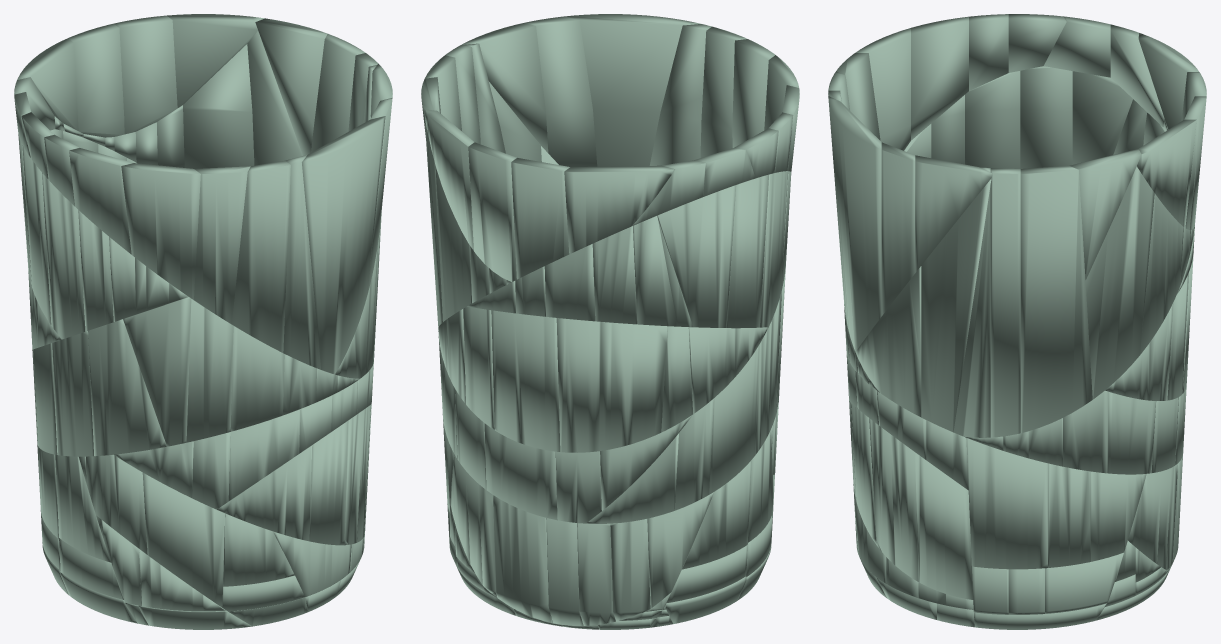
File: collision-hulls.glb
3 renders of one model, left to right at view 1: azimuth 30°, elevation 25°; view 2: azimuth 150°, elevation 25°; view 3: azimuth 270°, elevation 25°, orthographic.
Visible parts, largest first — view 1: fragment-017-hull-00, fragment-002-hull-01, fragment-006-hull-01, fragment-014-hull-00, fragment-023-hull-04, fragment-013-hull-01, fragment-006-hull-00, fragment-015-hull-08, fragment-012-hull-01, fragment-015-hull-07, fragment-007-hull-00, fragment-012-hull-02 (+48 smaller); view 2: fragment-005-hull-05, fragment-017-hull-00, fragment-005-hull-02, fragment-019-hull-04, fragment-017-hull-01, fragment-012-hull-03, fragment-012-hull-02, fragment-011-hull-01, fragment-002-hull-00, fragment-012-hull-01, fragment-017-hull-02, fragment-019-hull-03 (+46 smaller); view 3: fragment-003-hull-02, fragment-016-hull-01, fragment-013-hull-00, fragment-017-hull-00, fragment-000-hull-00, fragment-003-hull-01, fragment-020-hull-01, fragment-020-hull-00, fragment-016-hull-00, fragment-006-hull-02, fragment-019-hull-03, fragment-017-hull-01 (+48 smaller).
Part boxes in pixels (x1=…): fragment-017-hull-00: x1=302, y1=116, x2=385, y2=374; fragment-002-hull-01: x1=232, y1=160, x2=290, y2=352; fragment-006-hull-01: x1=121, y1=163, x2=200, y2=299; fragment-014-hull-00: x1=88, y1=319, x2=166, y2=456; fragment-023-hull-04: x1=142, y1=472, x2=225, y2=607; fragment-013-hull-01: x1=183, y1=44, x2=254, y2=168; fragment-006-hull-00: x1=194, y1=166, x2=250, y2=324; fragment-015-hull-08: x1=123, y1=297, x2=191, y2=446; fragment-012-hull-01: x1=114, y1=15, x2=177, y2=134; fragment-015-hull-07: x1=186, y1=299, x2=233, y2=442; fragment-007-hull-00: x1=255, y1=18, x2=327, y2=155; fragment-012-hull-02: x1=68, y1=23, x2=124, y2=137; fragment-005-hull-05: x1=556, y1=318, x2=667, y2=452; fragment-017-hull-00: x1=565, y1=14, x2=700, y2=166; fragment-005-hull-02: x1=491, y1=310, x2=560, y2=451; fragment-019-hull-04: x1=657, y1=185, x2=736, y2=327; fragment-017-hull-01: x1=524, y1=16, x2=597, y2=166; fragment-012-hull-03: x1=564, y1=165, x2=674, y2=254; fragment-012-hull-02: x1=511, y1=158, x2=569, y2=279; fragment-011-hull-01: x1=493, y1=495, x2=552, y2=623; fragment-002-hull-00: x1=649, y1=24, x2=711, y2=165; fragment-012-hull-01: x1=468, y1=142, x2=516, y2=281; fragment-017-hull-02: x1=461, y1=23, x2=548, y2=152; fragment-019-hull-03: x1=726, y1=174, x2=768, y2=328; fragment-003-hull-02: x1=1020, y1=165, x2=1092, y2=432; fragment-016-hull-01: x1=921, y1=178, x2=991, y2=432; fragment-013-hull-00: x1=1085, y1=166, x2=1154, y2=399; fragment-017-hull-00: x1=828, y1=96, x2=881, y2=351; fragment-000-hull-00: x1=966, y1=438, x2=1047, y2=569; fragment-003-hull-01: x1=990, y1=168, x2=1020, y2=437; fragment-020-hull-01: x1=919, y1=456, x2=973, y2=599; fragment-020-hull-00: x1=869, y1=418, x2=919, y2=582; fragment-016-hull-00: x1=855, y1=266, x2=921, y2=417; fragment-006-hull-02: x1=911, y1=16, x2=968, y2=140; fragment-019-hull-03: x1=1020, y1=66, x2=1072, y2=168; fragment-017-hull-01: x1=881, y1=142, x2=915, y2=315.
Size of the model in its own units: 0.08 by 0.11 by 0.08.
